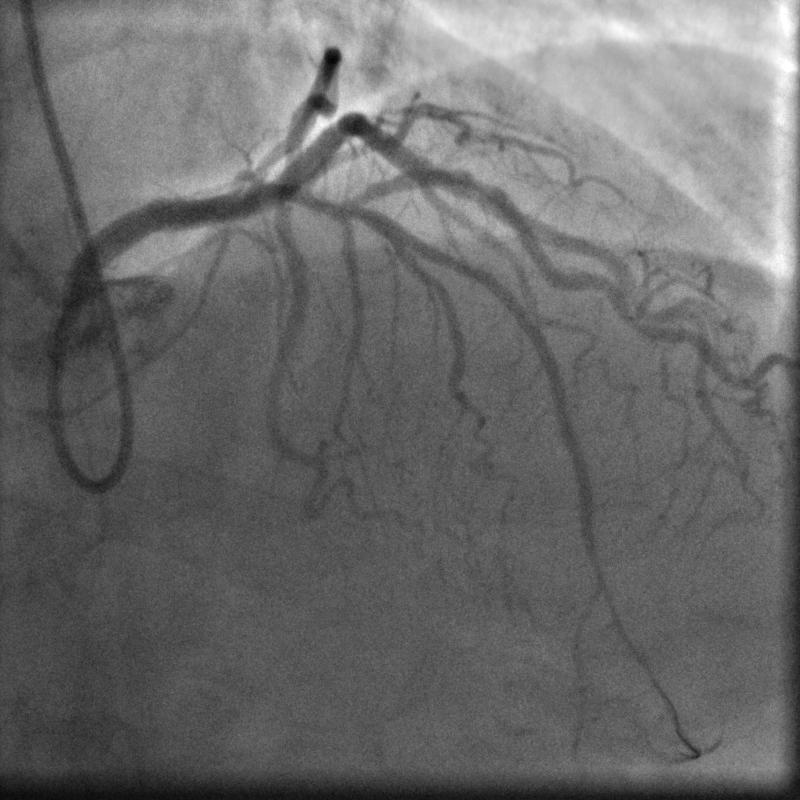Stenosis: (458, 163, 499, 207)
